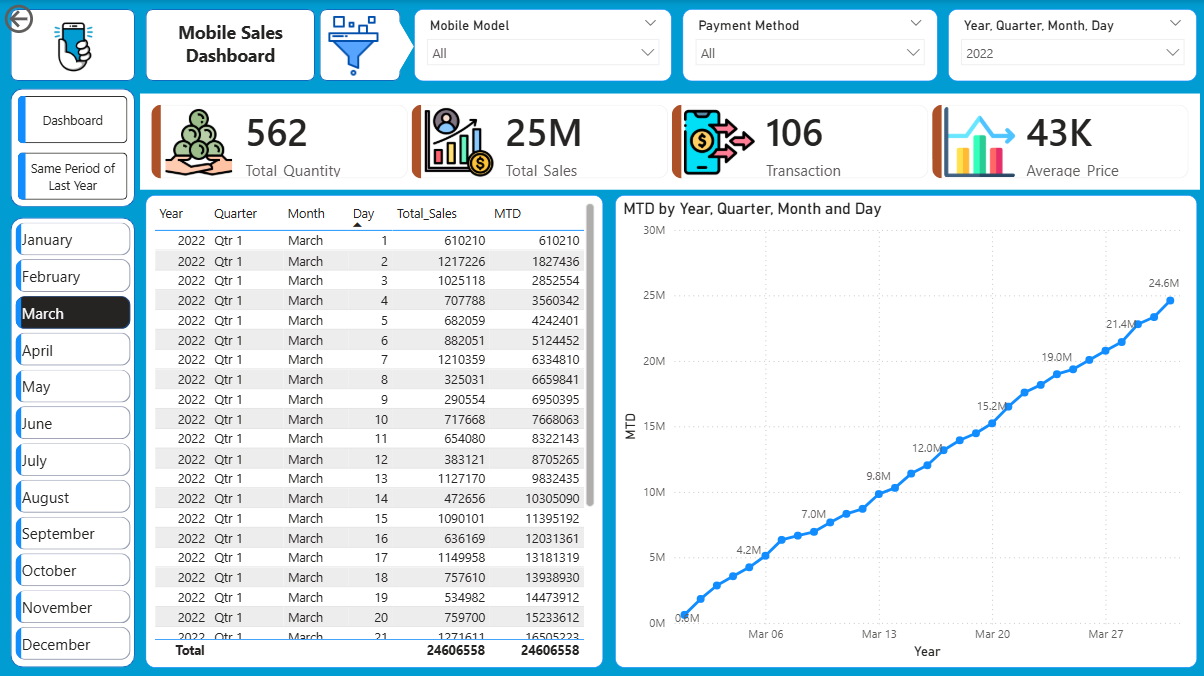

This screenshot's page, from the dashboard's own definition file:
{"tool":"powerbi","page":{"name":"MTD Report","canvas":[1280,720],"ordinal":1},"visuals":[{"type":"shape","box":[11.1,9.5,132,76.3],"z":0},{"type":"image","box":[28.6,11.1,98.6,71.6],"z":1000},{"type":"shape","box":[11.1,93.8,132,125.7],"z":2000},{"type":"shape","box":[11.1,230.6,132,477.2],"z":3000},{"type":"advancedSlicerVisual","fields":{"Values":["Custom_Calendar.Date.Variation.Date Hierarchy.Month"]},"box":[11.1,230.6,132,477.2],"z":4000},{"type":"cardVisual","fields":{"Data":["Sales_Data.Total_Quantity","Sales_Data.Total_Sales","Sales_Data.Transaction","Sales_Data.Average_Price"]},"box":[143.2,93.8,1137.3,112.9],"z":5000},{"type":"slicer","fields":{"Values":["Sales_Data.Mobile Model"]},"box":[439,9.5,273.6,76.3],"z":6000},{"type":"slicer","fields":{"Values":["Sales_Data.Payment Method"]},"box":[723.7,9.5,270.4,76.3],"z":7000},{"type":"slicer","fields":{"Values":["Custom_Calendar.Date.Variation.Date Hierarchy.Year","Custom_Calendar.Date.Variation.Date Hierarchy.Quarter","Custom_Calendar.Date.Variation.Date Hierarchy.Month","Custom_Calendar.Date.Variation.Date Hierarchy.Day"]},"box":[1005.3,9.5,264,76.3],"z":8000},{"type":"shape","box":[338.8,9.5,85.9,76.3],"z":9000},{"type":"image","box":[338.8,15.9,71.6,65.2],"z":10000},{"type":"shape","box":[407.2,22.3,31.8,54.1],"z":11000},{"type":"shape","box":[154.3,9.5,179.7,76.3],"z":12000},{"type":"textbox","box":[167,15.9,154.3,60.4],"z":13000},{"type":"actionButton","box":[0,0,100,40],"z":14000},{"type":"tableEx","fields":{"Values":["Custom_Calendar.Date.Variation.Date Hierarchy.Year","Custom_Calendar.Date.Variation.Date Hierarchy.Quarter","Custom_Calendar.Date.Variation.Date Hierarchy.Month","Custom_Calendar.Date.Variation.Date Hierarchy.Day","Sales_Data.Total_Sales","Sales_Data.MTD"]},"box":[154.3,206.8,485.1,501],"z":15000},{"type":"lineChart","fields":{"Category":["Custom_Calendar.Date.Variation.Date Hierarchy.Year","Custom_Calendar.Date.Variation.Date Hierarchy.Quarter","Custom_Calendar.Date.Variation.Date Hierarchy.Month","Custom_Calendar.Date.Variation.Date Hierarchy.Day"],"Y":["Sales_Data.MTD"]},"box":[652.2,206.8,617.2,501],"z":16000},{"type":"pageNavigator","box":[19.1,101.8,116.1,111.3],"z":17000}]}

Visuals, with their boxes in screenshot pixels (x1, y1, x2, y2), scaled from the page's 1280x720 canvas onto the 1204x676 screenshot:
shape: {"left": 10, "top": 9, "right": 135, "bottom": 81}
image: {"left": 27, "top": 10, "right": 120, "bottom": 78}
shape: {"left": 10, "top": 88, "right": 135, "bottom": 206}
shape: {"left": 10, "top": 217, "right": 135, "bottom": 665}
advancedSlicerVisual - Custom_Calendar.Date.Variation.Date Hierarchy.Month: {"left": 10, "top": 217, "right": 135, "bottom": 665}
cardVisual - Sales_Data.Total_Quantity x Sales_Data.Total_Sales: {"left": 135, "top": 88, "right": 1203, "bottom": 194}
slicer - Sales_Data.Mobile Model: {"left": 413, "top": 9, "right": 670, "bottom": 81}
slicer - Sales_Data.Payment Method: {"left": 681, "top": 9, "right": 935, "bottom": 81}
slicer - Custom_Calendar.Date.Variation.Date Hierarchy.Year x Custom_Calendar.Date.Variation.Date Hierarchy.Quarter: {"left": 946, "top": 9, "right": 1194, "bottom": 81}
shape: {"left": 319, "top": 9, "right": 399, "bottom": 81}
image: {"left": 319, "top": 15, "right": 386, "bottom": 76}
shape: {"left": 383, "top": 21, "right": 413, "bottom": 72}
shape: {"left": 145, "top": 9, "right": 314, "bottom": 81}
textbox: {"left": 157, "top": 15, "right": 302, "bottom": 72}
actionButton: {"left": 0, "top": 0, "right": 94, "bottom": 38}
tableEx - Custom_Calendar.Date.Variation.Date Hierarchy.Year x Custom_Calendar.Date.Variation.Date Hierarchy.Quarter: {"left": 145, "top": 194, "right": 601, "bottom": 665}
lineChart - Custom_Calendar.Date.Variation.Date Hierarchy.Year x Custom_Calendar.Date.Variation.Date Hierarchy.Quarter: {"left": 613, "top": 194, "right": 1194, "bottom": 665}
pageNavigator: {"left": 18, "top": 96, "right": 127, "bottom": 200}
